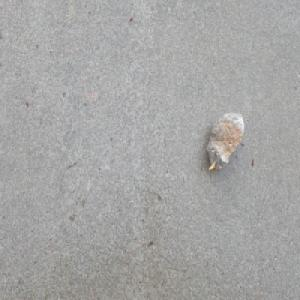Rock: (205, 110, 245, 175)
